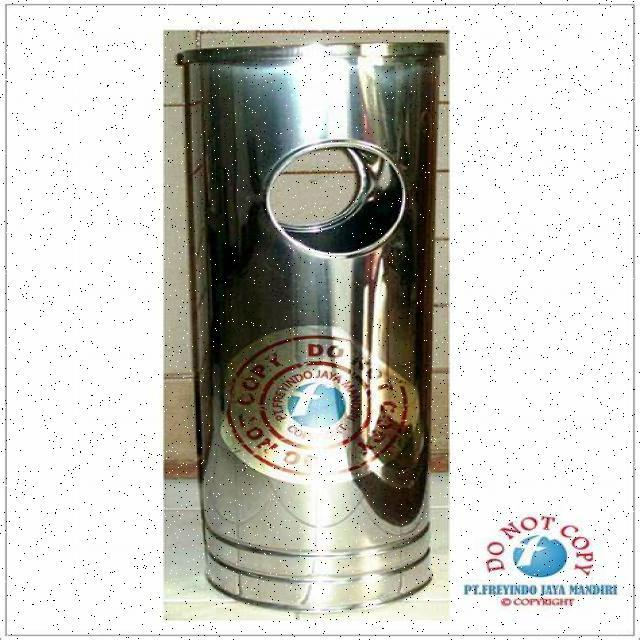garbage container: (166, 29, 447, 614)
